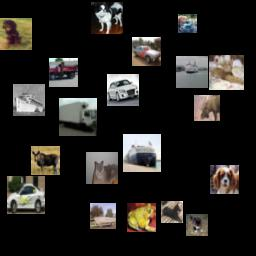automobile: (7, 176, 45, 214), (107, 74, 139, 106), (132, 37, 161, 66)
cat: (209, 55, 244, 90), (86, 152, 118, 184), (186, 214, 208, 236)
deer: (31, 146, 60, 175), (194, 95, 220, 121)
dog: (0, 18, 32, 50), (91, 2, 123, 34), (210, 165, 239, 194), (161, 201, 183, 223)
frog: (127, 203, 156, 232)
ship: (123, 134, 161, 172), (176, 56, 208, 88), (13, 84, 45, 116), (90, 203, 116, 229)
truck: (59, 98, 97, 136), (49, 58, 78, 87), (178, 14, 197, 33)
